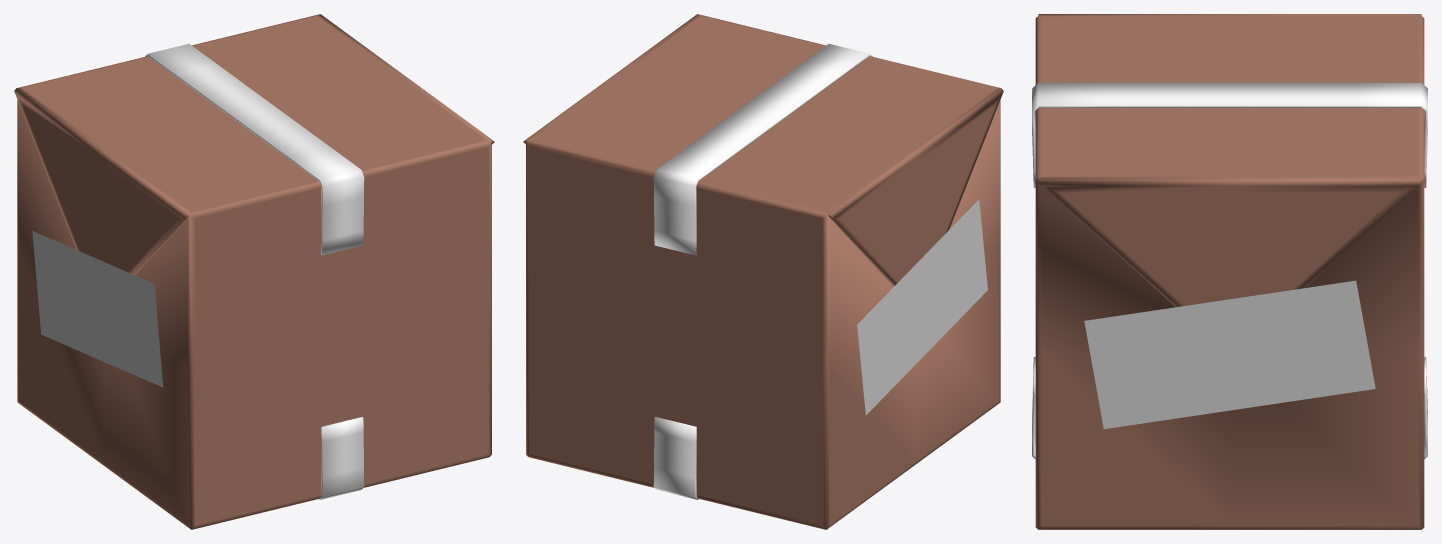
The picture shows the model from 3 angles, left to right: view 1: azimuth 30°, elevation 25°; view 2: azimuth 150°, elevation 25°; view 3: azimuth 270°, elevation 25°; orthographic projection. The views are drawn at different scales.
Parts seen in each view (by area): view 1: Cube, Plane.001, Plane.002; view 2: Cube, Plane.001, Plane.002; view 3: Cube, Plane, Plane.001.
Part boxes in pixels (<box>): Cube: <box>14,14,494,529</box>; Plane.001: <box>145,44,364,499</box>; Plane.002: <box>32,231,163,387</box>; Cube: <box>523,14,1003,529</box>; Plane.001: <box>653,44,872,499</box>; Plane.002: <box>857,199,987,414</box>; Cube: <box>1035,14,1424,529</box>; Plane: <box>1084,280,1375,429</box>; Plane.001: <box>1032,83,1427,458</box>.
Bounding box in the file's own units: 208 × 202 × 204.
